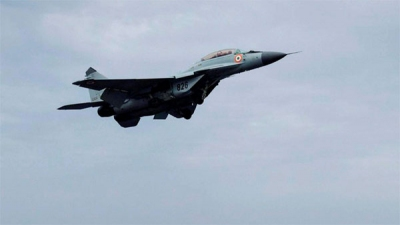Mig-29: (57, 29, 299, 132)
